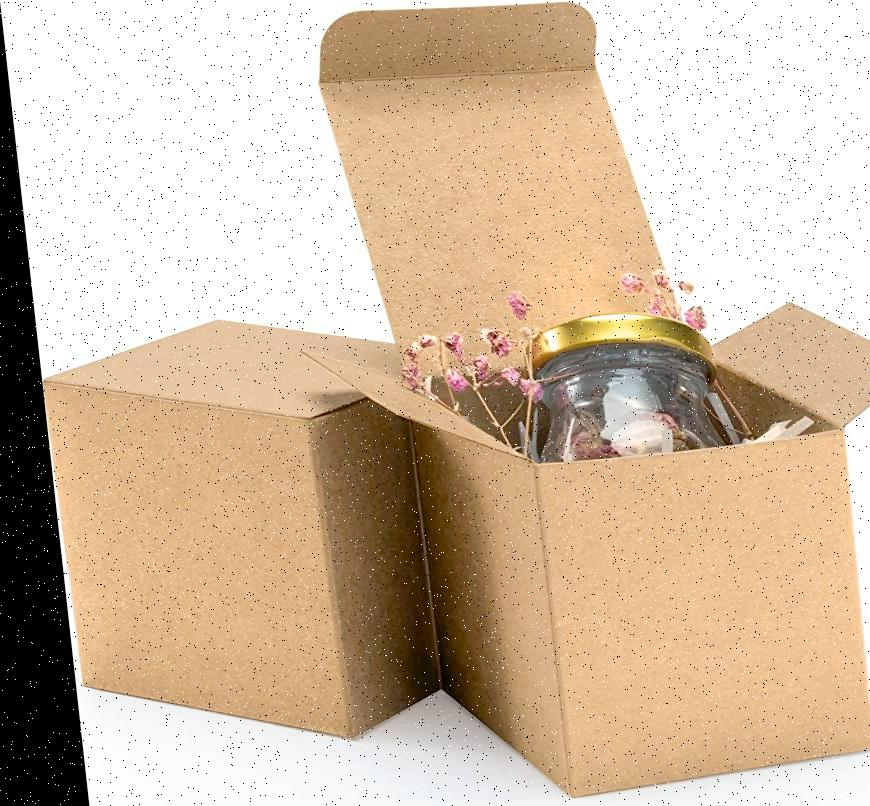cube: (28, 322, 441, 739)
